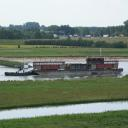tugboat: (5, 57, 40, 78)
